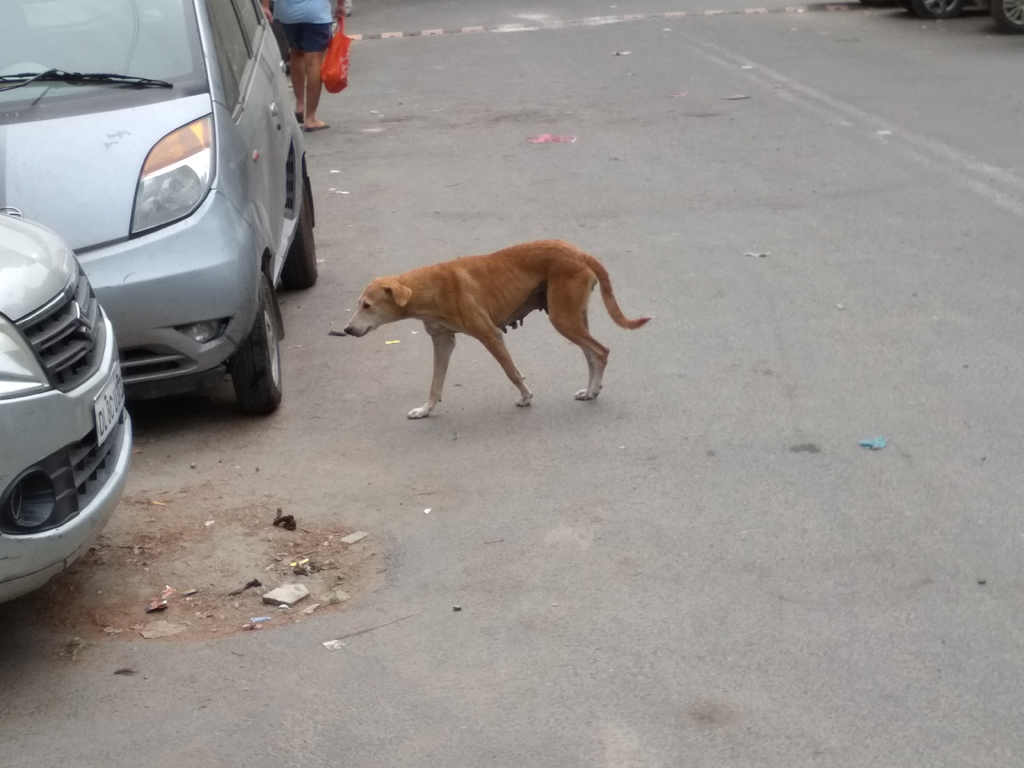dog: (343, 240, 651, 420)
